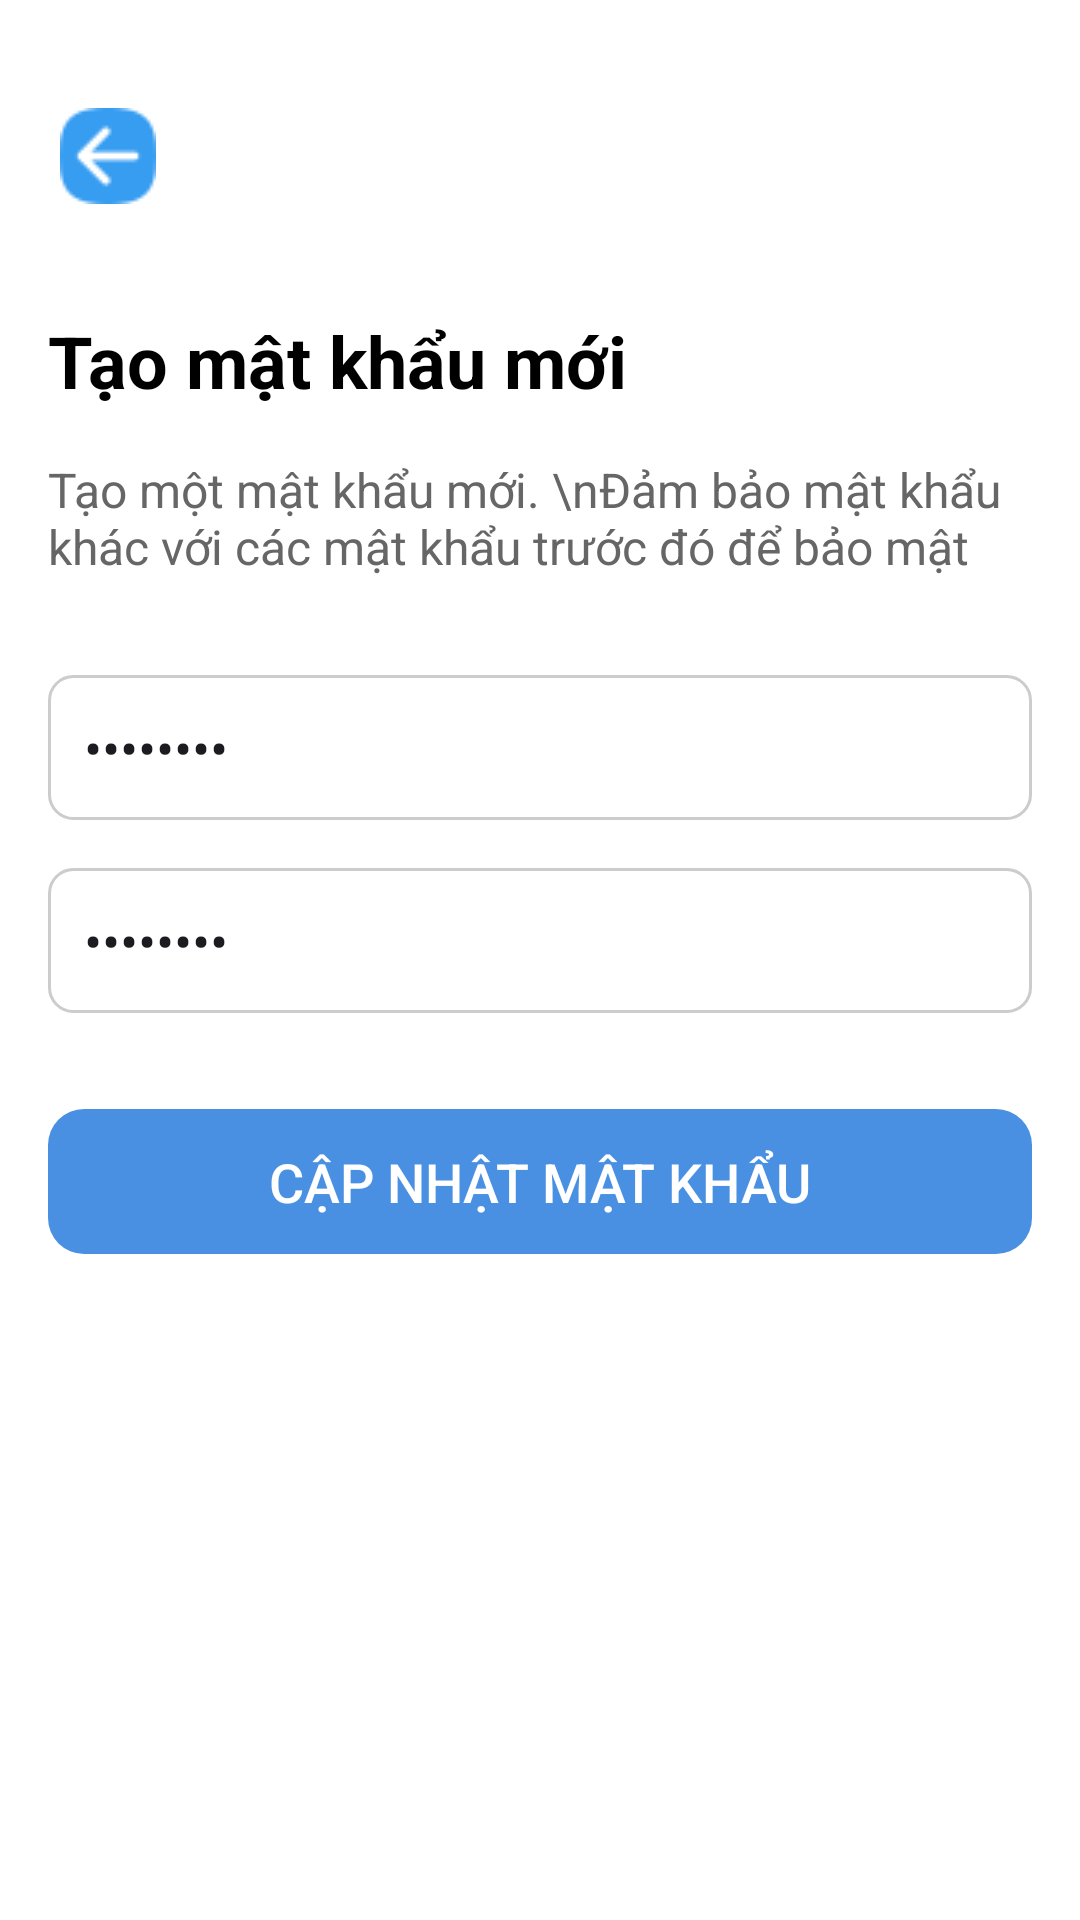

Icons on this 1080 × 1920 Android screen, each with its box as region(x1, y1, x2, y2):
left: region(60, 108, 156, 204)
